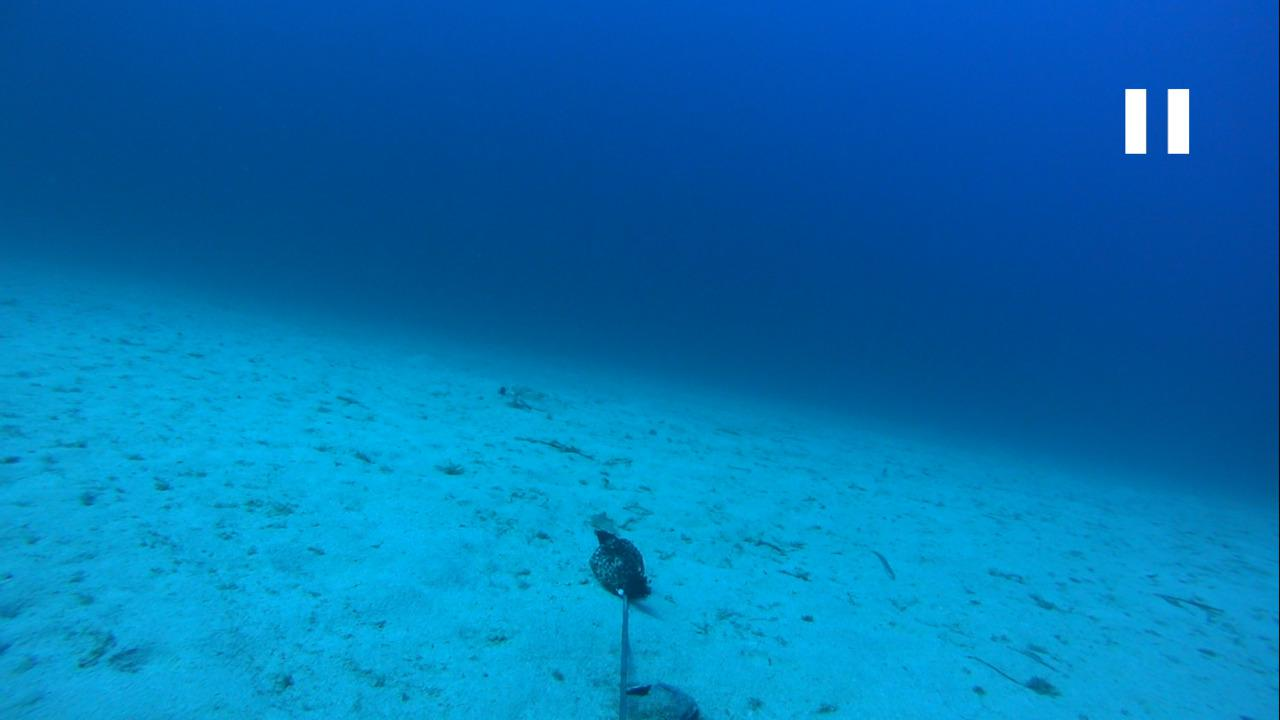dactylopterus: (489, 375, 572, 417)
